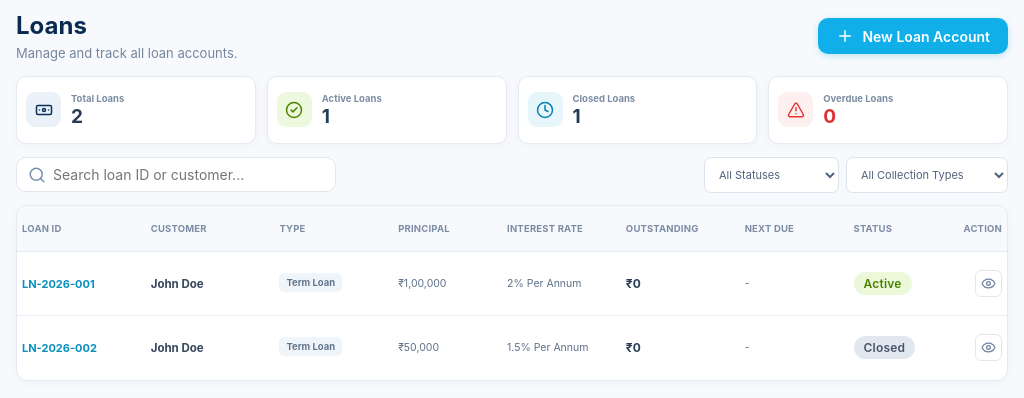
Test: Loans Page Component › filters loans by search query
Expected: the text "LN-2026-001" is shown, [22,277,95,291]
Step 1. Type "LN-2026-001" into the field with placeholder "Search loan ID or customer..." → (176, 175), box [16,157,336,192]
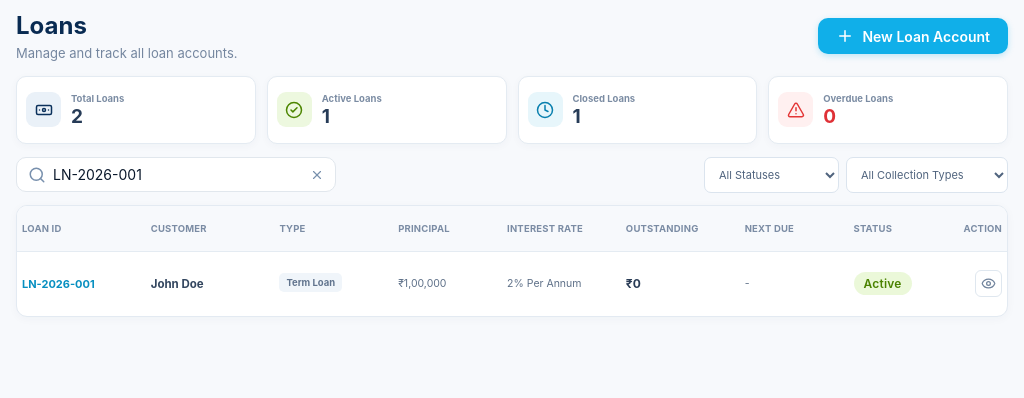
Expected: the text "LN-2026-001" is shown, [22,277,95,291]
Result: the text "LN-2026-002" is gone
